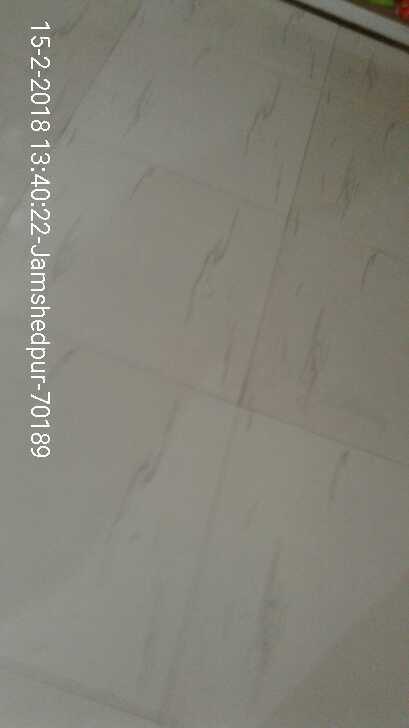reject: (89, 148, 209, 244)
